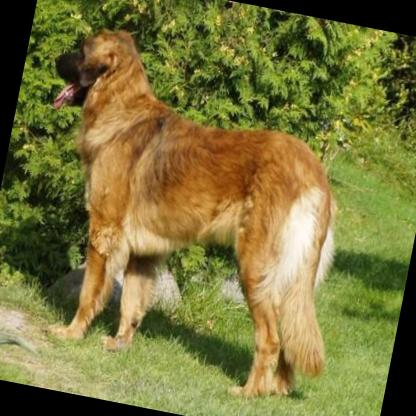Leonberg: (0, 17, 381, 412)
